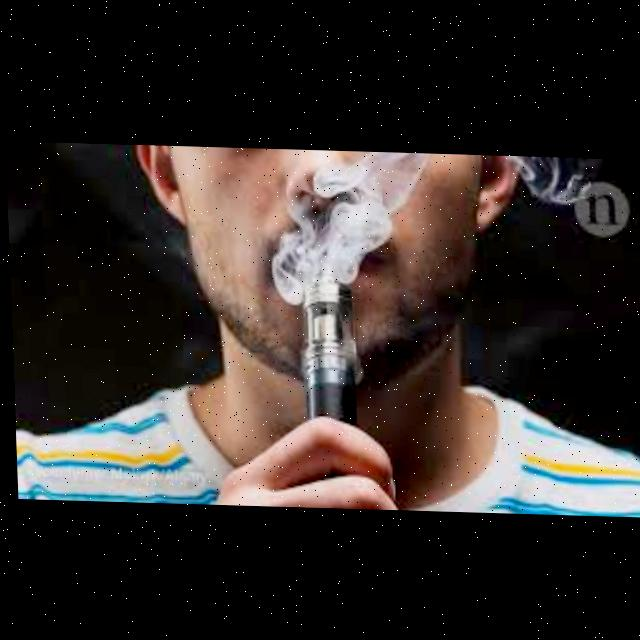vape: (296, 248, 353, 418)
